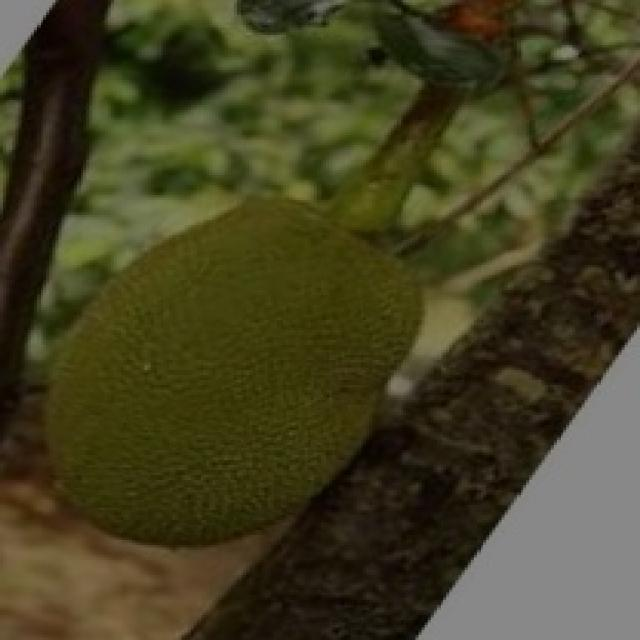Fruit: (3, 165, 443, 573)
